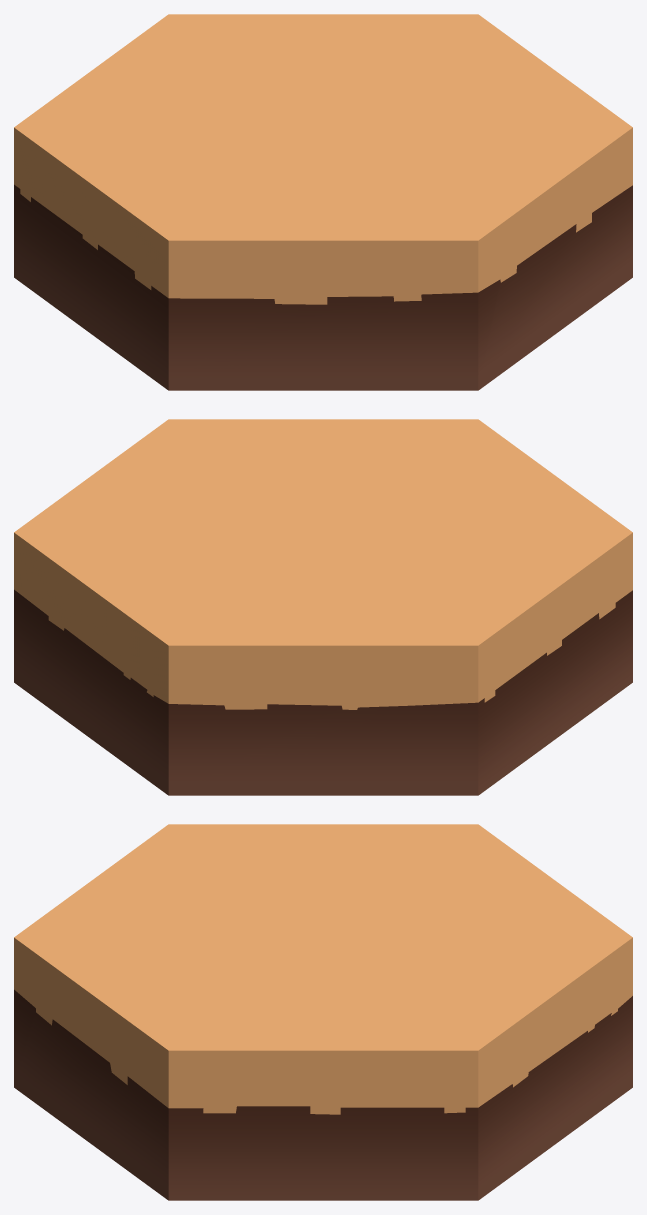
Rendered from Grade_13.fbx.
The picture shows the model from 3 angles, top to bottom: view 1: azimuth 30°, elevation 25°; view 2: azimuth 150°, elevation 25°; view 3: azimuth 270°, elevation 25°; orthographic projection.
Visible parts, largest first — view 1: Grade_1.001; view 2: Grade_1.001; view 3: Grade_1.001.
Boxes of the visible parts, bbox=[...] form: Grade_1.001: bbox=[14, 14, 632, 390]; Grade_1.001: bbox=[14, 419, 632, 795]; Grade_1.001: bbox=[14, 824, 632, 1200].
Size of the model in its own units: 1.73 by 2 by 0.5351.
